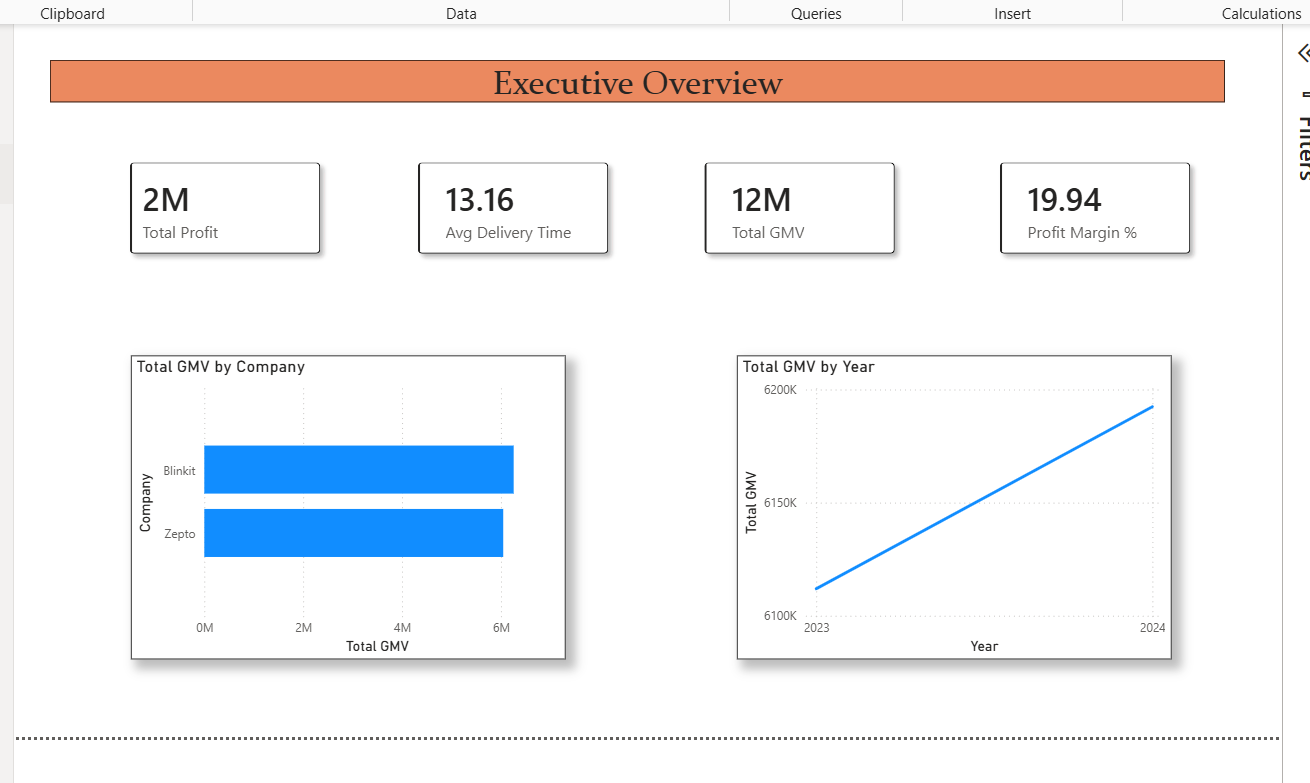

Layout of this report page (visuals, bound fields, positions):
{"tool":"powerbi","page":{"name":"Page 1","canvas":[1280,720],"ordinal":0},"visuals":[{"type":"cardVisual","fields":{"Data":["mumbai_qcommerce_enriched.Total GMV"]},"box":[668.3,110,250,150],"z":0},{"type":"cardVisual","fields":{"Data":["mumbai_qcommerce_enriched.Total Profit"]},"box":[88.3,110,250,150],"z":1000},{"type":"cardVisual","fields":{"Data":["mumbai_qcommerce_enriched.Profit Margin %"]},"box":[966.7,110,250,150],"z":2000},{"type":"cardVisual","fields":{"Data":["mumbai_qcommerce_enriched.Avg Delivery Time"]},"box":[378.3,110,250,150],"z":3000},{"type":"clusteredBarChart","fields":{"Y":["mumbai_qcommerce_enriched.Total GMV"],"Category":["mumbai_qcommerce_enriched.Company"]},"box":[118.3,335,438.3,306.7],"z":4000},{"type":"lineChart","fields":{"Category":["mumbai_qcommerce_enriched.Order_Timestamp.Variation.Date Hierarchy.Year","mumbai_qcommerce_enriched.Order_Timestamp.Variation.Date Hierarchy.Quarter","mumbai_qcommerce_enriched.Order_Timestamp.Variation.Date Hierarchy.Month","mumbai_qcommerce_enriched.Order_Timestamp.Variation.Date Hierarchy.Day"],"Y":["mumbai_qcommerce_enriched.Total GMV"]},"box":[730,335,438.3,306.7],"z":5000},{"type":"textbox","title":"Executive Overview","box":[35.7,35.7,1185.7,42.9],"z":6000}]}

Visuals, with their boxes on the page's 1280x720 design canvas (x1, y1, x2, y2). These are canvas units, not pixel positions in the 1310x783 screenshot, which may show the page scaled, cropped or inside an application window:
cardVisual - mumbai_qcommerce_enriched.Total GMV: (668, 110, 918, 260)
cardVisual - mumbai_qcommerce_enriched.Total Profit: (88, 110, 338, 260)
cardVisual - mumbai_qcommerce_enriched.Profit Margin %: (967, 110, 1217, 260)
cardVisual - mumbai_qcommerce_enriched.Avg Delivery Time: (378, 110, 628, 260)
clusteredBarChart - mumbai_qcommerce_enriched.Total GMV x mumbai_qcommerce_enriched.Company: (118, 335, 557, 642)
lineChart - mumbai_qcommerce_enriched.Order_Timestamp.Variation.Date Hierarchy.Year x mumbai_qcommerce_enriched.Order_Timestamp.Variation.Date Hierarchy.Quarter: (730, 335, 1168, 642)
"Executive Overview" textbox: (36, 36, 1221, 79)
